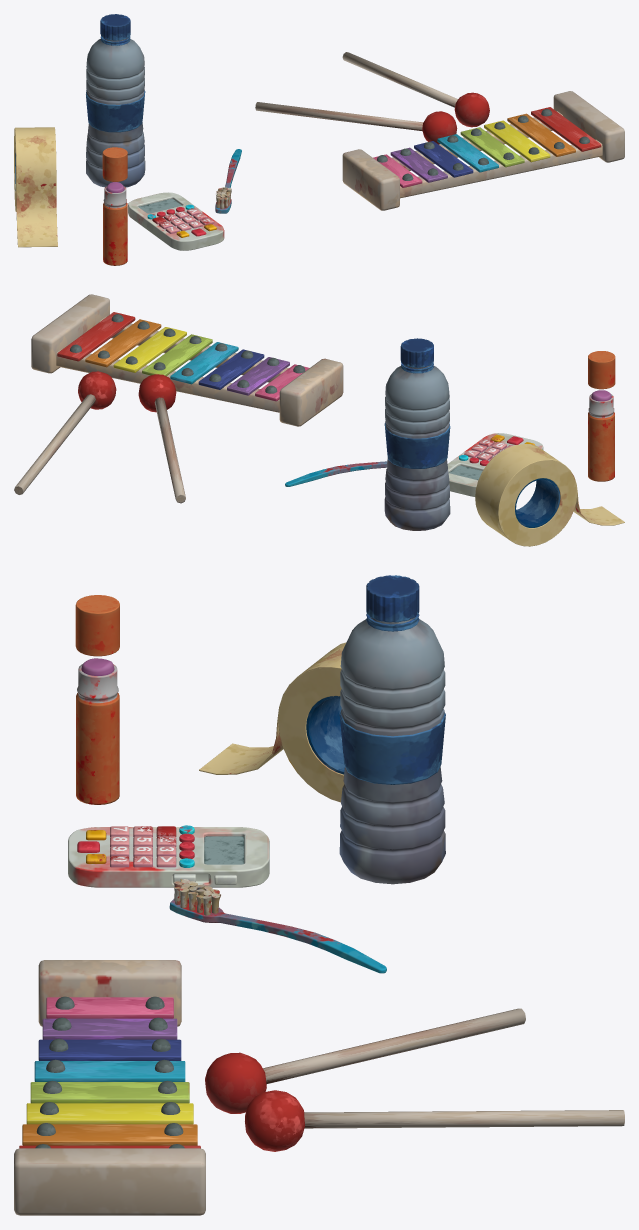
The model's file is calculator_and_other_stuff.fbx.
3 renders of one model, top to bottom at view 1: azimuth 30°, elevation 25°; view 2: azimuth 150°, elevation 25°; view 3: azimuth 270°, elevation 25°, orthographic. The views are drawn at different scales.
Visible parts, largest first — view 1: xylophone_base, water_bottle, tape, calculator, xylophone_stick1, xylophone_stick2, glue_bottom, glue_top, toothbrush; view 2: xylophone_base, water_bottle, tape, xylophone_stick2, glue_bottom, calculator, xylophone_stick1, glue_top, toothbrush; view 3: xylophone_base, water_bottle, calculator, tape, xylophone_stick2, xylophone_stick1, glue_bottom, toothbrush, glue_top.
Part boxes in pixels (x1,y1,x2,y2): xylophone_base: [342, 91, 624, 210]; water_bottle: [86, 14, 145, 187]; tape: [14, 127, 57, 247]; calculator: [128, 192, 224, 250]; xylophone_stick1: [255, 102, 457, 144]; xylophone_stick2: [342, 52, 489, 127]; glue_bottom: [103, 182, 127, 265]; glue_top: [102, 147, 127, 181]; toothbrush: [215, 149, 241, 213]; xylophone_base: [31, 294, 343, 426]; water_bottle: [384, 338, 450, 530]; tape: [475, 444, 624, 546]; xylophone_stick2: [14, 371, 116, 494]; glue_bottom: [588, 390, 614, 481]; calculator: [447, 433, 543, 496]; xylophone_stick1: [138, 374, 185, 503]; glue_top: [588, 351, 615, 389]; toothbrush: [285, 461, 387, 486]; xylophone_base: [14, 960, 205, 1215]; water_bottle: [339, 575, 445, 884]; calculator: [68, 825, 269, 887]; tape: [199, 642, 346, 802]; xylophone_stick2: [245, 1090, 624, 1151]; xylophone_stick1: [205, 1008, 525, 1113]; glue_bottom: [76, 658, 119, 804]; toothbrush: [169, 878, 386, 973]; glue_top: [75, 595, 119, 656].
Size of the model in its own units: 2133 by 599 by 1167.
